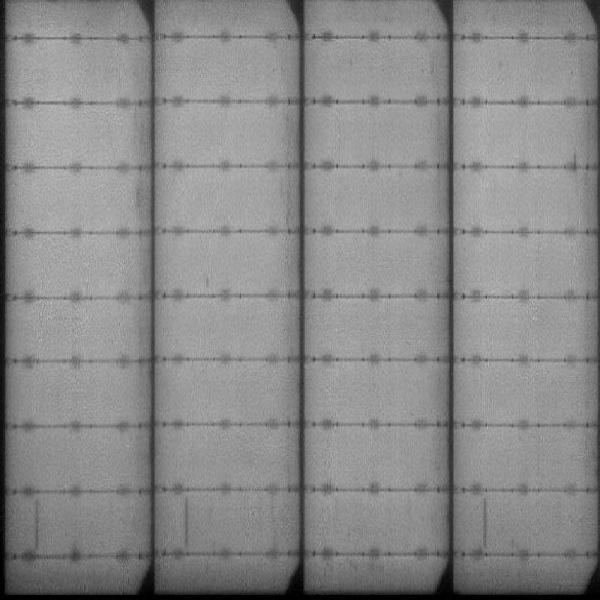scratch: (480, 496, 490, 559), (32, 497, 42, 549), (182, 499, 192, 544)
